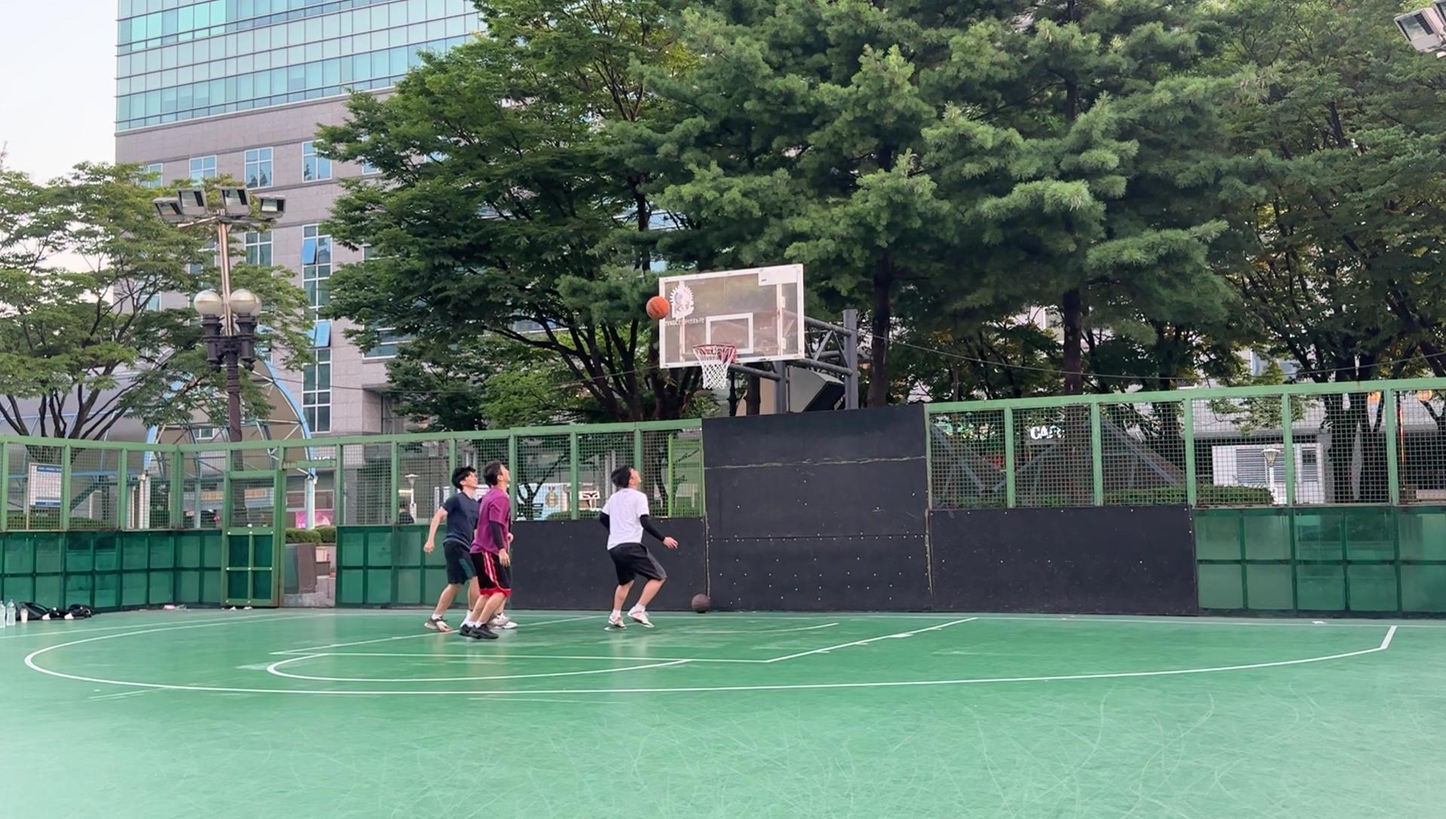ball: (644, 297, 671, 324)
human: (602, 467, 681, 633), (424, 468, 499, 641), (458, 461, 514, 641)
rim: (691, 342, 740, 392)
